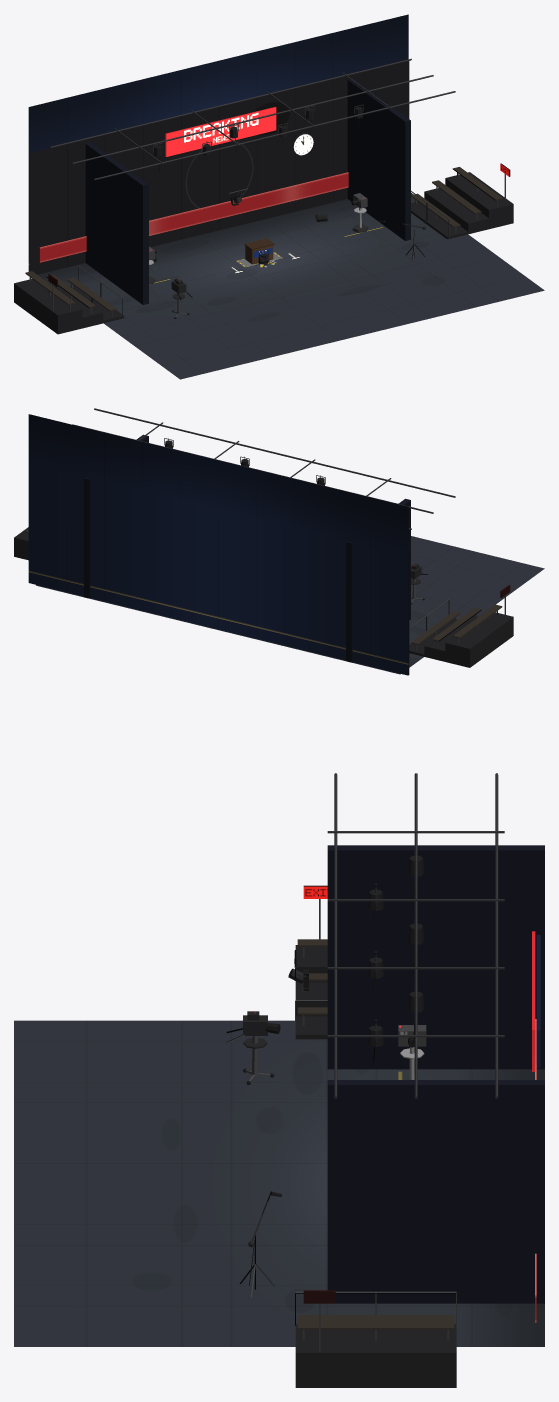
Rendered from news.glb.
The picture shows the model from 3 angles, top to bottom: view 1: azimuth 30°, elevation 25°; view 2: azimuth 150°, elevation 25°; view 3: azimuth 270°, elevation 25°; orthographic projection. The views are drawn at different scales.
Visible parts, largest first — view 1: set, seg_lightsout, audience, seg_ticker, prop_desk; view 2: set, audience; view 3: set, audience, fg_left.
Boxes of the visible parts, <box> form: set: <box>28,14,544,379</box>; seg_lightsout: <box>29,61,409,274</box>; audience: <box>14,163,513,334</box>; seg_ticker: <box>39,107,348,267</box>; prop_desk: <box>244,238,274,264</box>; set: <box>28,408,544,675</box>; audience: <box>14,527,513,667</box>; set: <box>14,773,544,1346</box>; audience: <box>295,885,456,1387</box>; fg_left: <box>226,1011,280,1084</box>.
Size of the model in its own units: 24 by 8.68 by 13.2.
2 materials, 2 textured.
